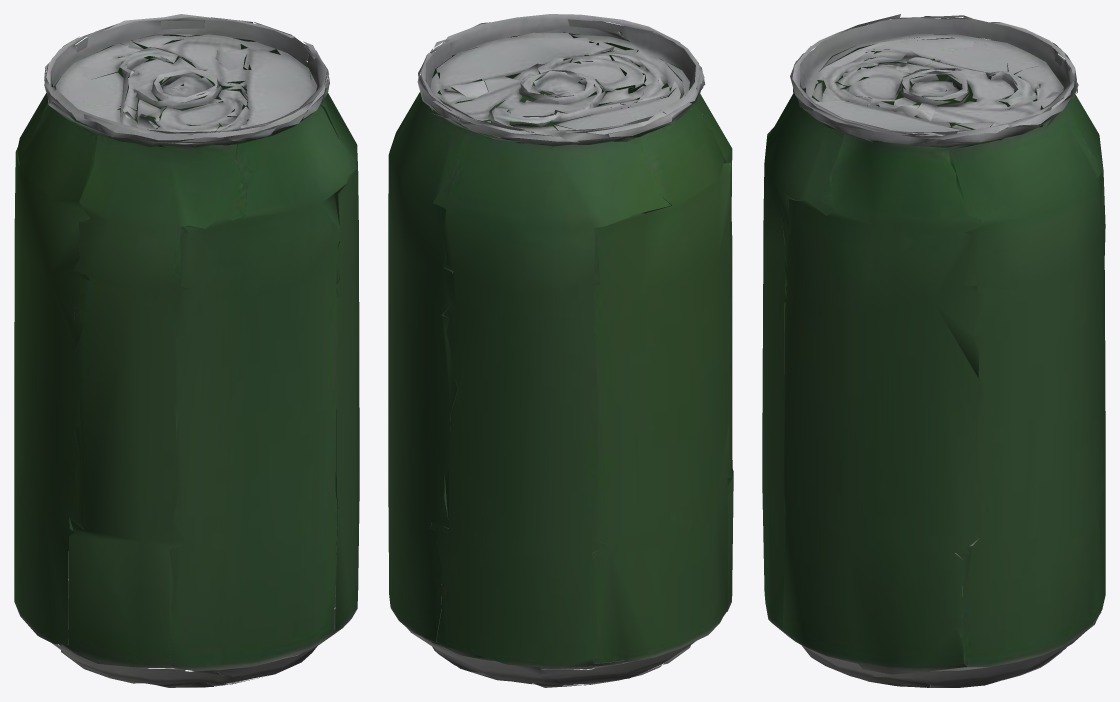
File: can.glb
The picture shows the model from 3 angles, left to right: view 1: azimuth 30°, elevation 25°; view 2: azimuth 150°, elevation 25°; view 3: azimuth 270°, elevation 25°; orthographic projection.
Parts seen in each view (by area): view 1: geometry_0; view 2: geometry_0; view 3: geometry_0.
Boxes of the visible parts, box(x1,y1,x2,y2) form: geometry_0: box(14, 14, 359, 687); geometry_0: box(388, 14, 733, 687); geometry_0: box(762, 14, 1105, 687).
Bounding box in the file's own units: 0.0842 × 0.151 × 0.0839.
Materials: 1 (1 with a texture image).
